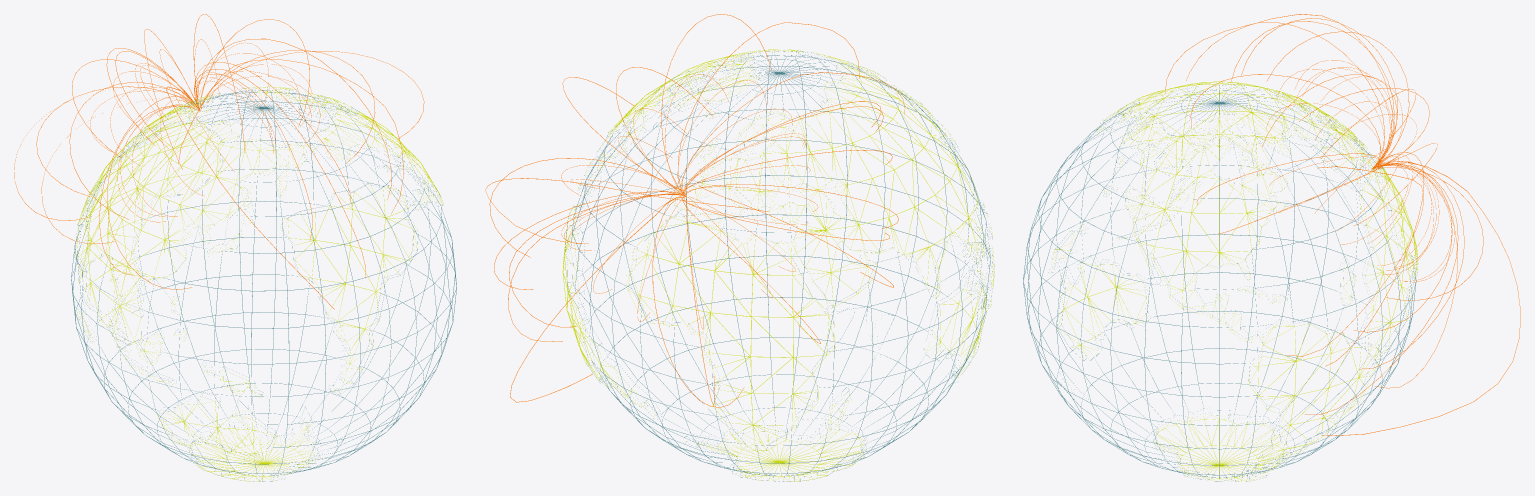
File: DeepTechParaLaSociedad.glb
3 renders of one model, left to right at view 1: azimuth 30°, elevation 25°; view 2: azimuth 150°, elevation 25°; view 3: azimuth 270°, elevation 25°, orthographic. The views are drawn at different scales.
Parts seen in each view (by area): view 1: Sphere, Circle.037; view 2: Sphere, Circle.037; view 3: Sphere, Circle.037.
Part boxes in pixels (<box>): Sphere: <box>71,86,456,481</box>; Circle.037: <box>14,14,424,309</box>; Sphere: <box>562,49,994,481</box>; Circle.037: <box>485,14,905,407</box>; Sphere: <box>1023,81,1418,481</box>; Circle.037: <box>1165,14,1520,435</box>.
Bounding box in the file's own units: 4.7 × 5.13 × 5.35.
